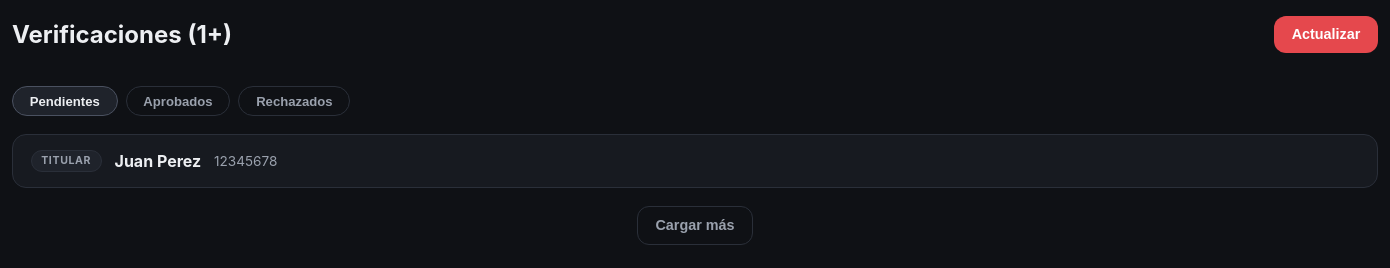
VerificationsPage › con hasMore muestra "Cargar más" y pide la página siguiente con offset (G2)
Click the button "Cargar más" at (695, 225), box [637, 206, 753, 245]
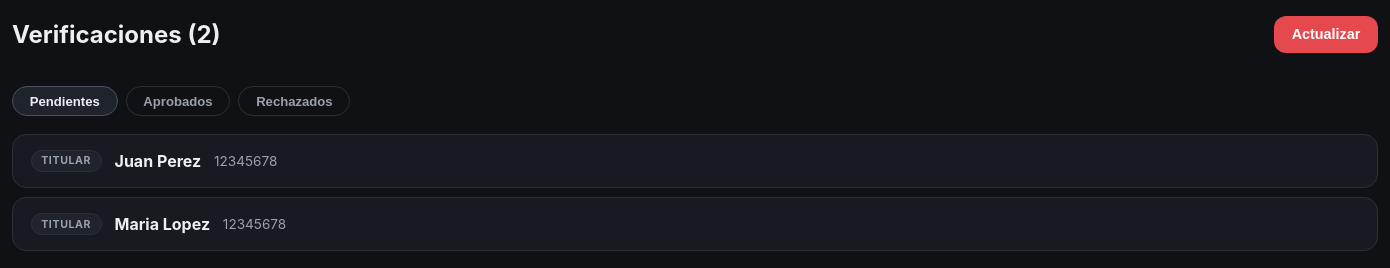
Expected: the text "Juan Perez" is shown, [114, 151, 201, 171]
Now the text "Maria Lopez" is shown, box [114, 214, 210, 234]
